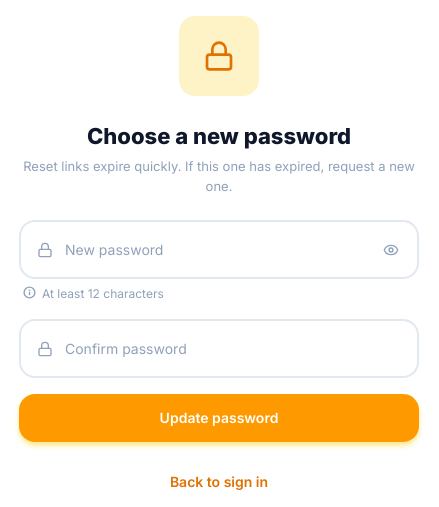
Test case: ResetPasswordPage › POSTs /v1/auth/reset-password when token + password match and password is long enough
expect the heading "Choose a new password" is shown: met, box [87,123,351,149]
Type "a-reasonable-passphrase" into the password field labelled "New password" at {"x": 219, "y": 250}, box [21,222,417,277]
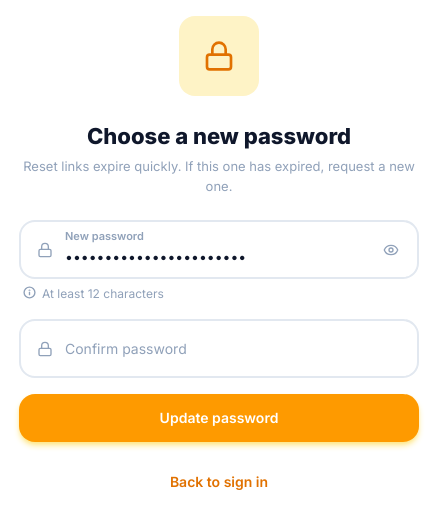
Type "a-reasonable-passphrase" into the password field labelled "Confirm password" at {"x": 219, "y": 348}, box [21,321,417,376]
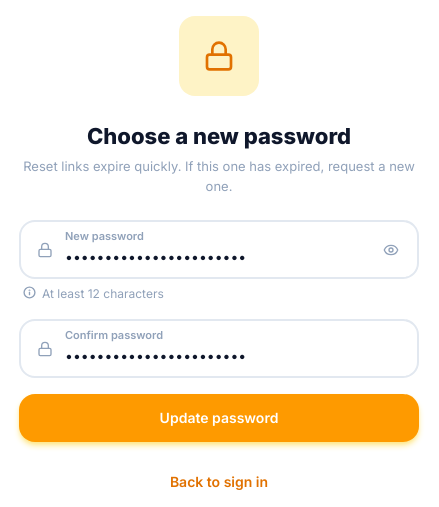
Click the button "Update password" at {"x": 219, "y": 418}, box [19,394,419,442]
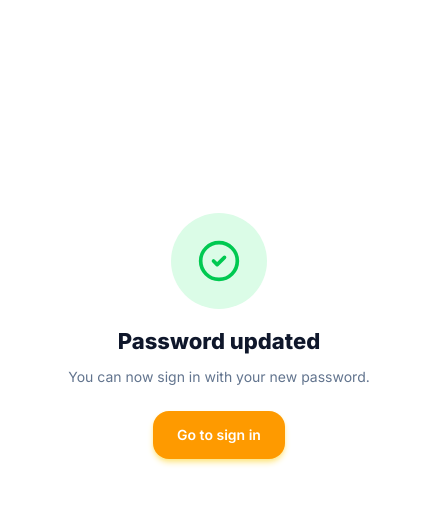
expect the heading "Password updated" is shown: met, box [118,325,320,358]
